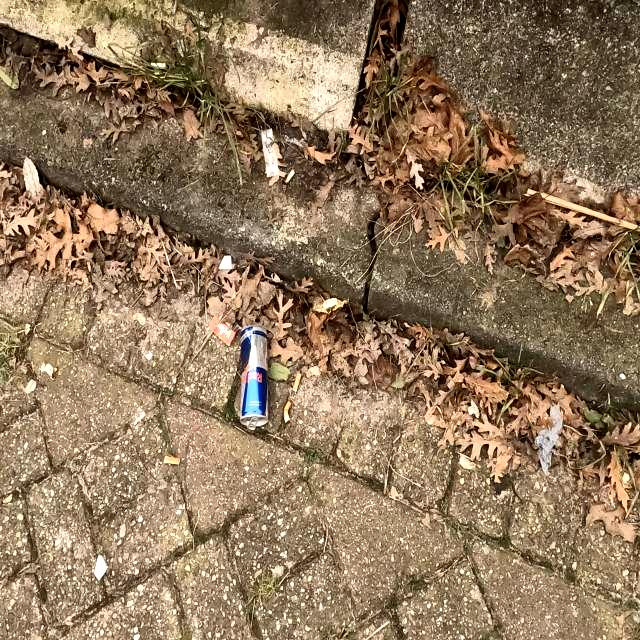Metal: (236, 322, 272, 432)
